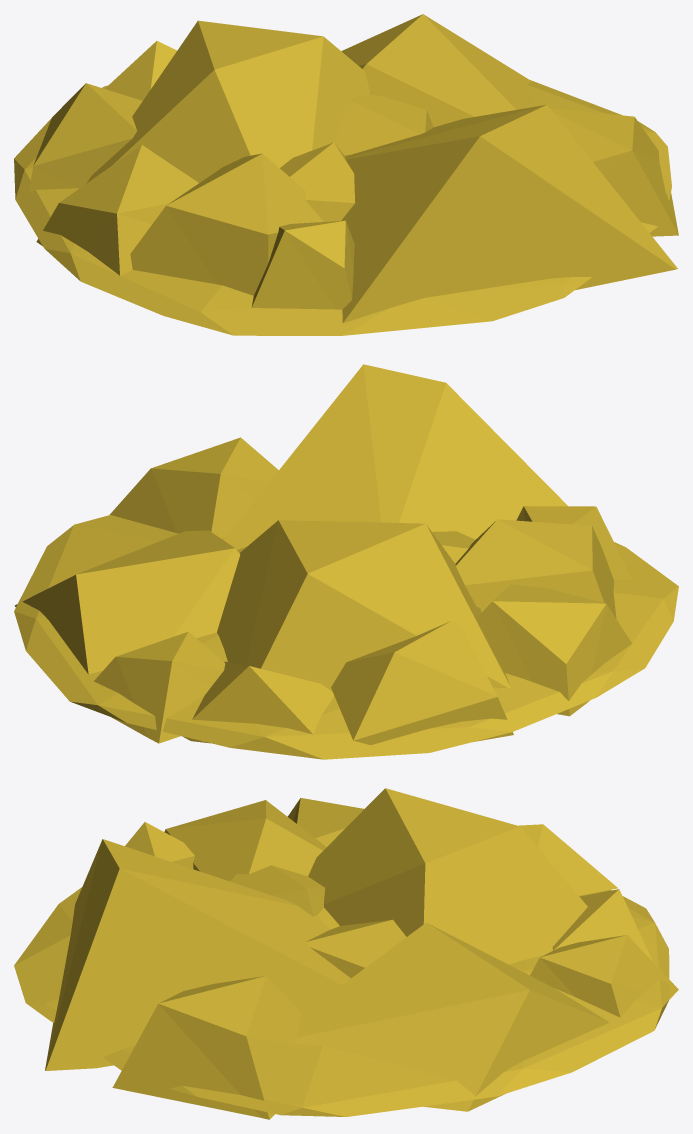
The model's file is GoldPileBag.fbx.
3 renders of one model, top to bottom at view 1: azimuth 30°, elevation 25°; view 2: azimuth 150°, elevation 25°; view 3: azimuth 270°, elevation 25°, orthographic.
Visible parts, largest first — view 1: GoldPileBag; view 2: GoldPileBag; view 3: GoldPileBag.
Boxes of the visible parts, left/top/right/bottom form: GoldPileBag: left=14, top=14, right=678, bottom=335; GoldPileBag: left=14, top=364, right=678, bottom=759; GoldPileBag: left=14, top=788, right=678, bottom=1119.
Bounding box in the file's own units: 33.94 × 8.93 × 33.98.
